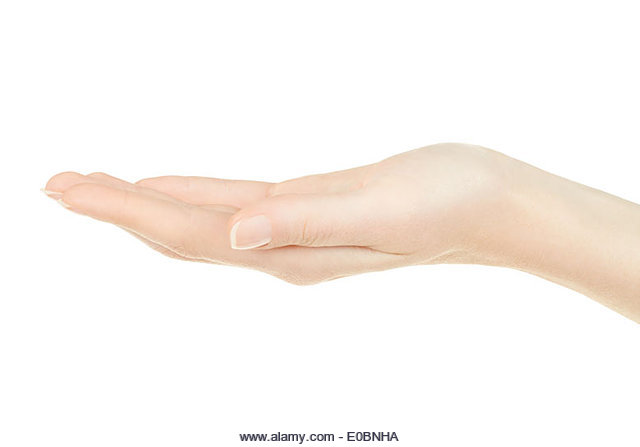hand: (26, 122, 544, 320)
